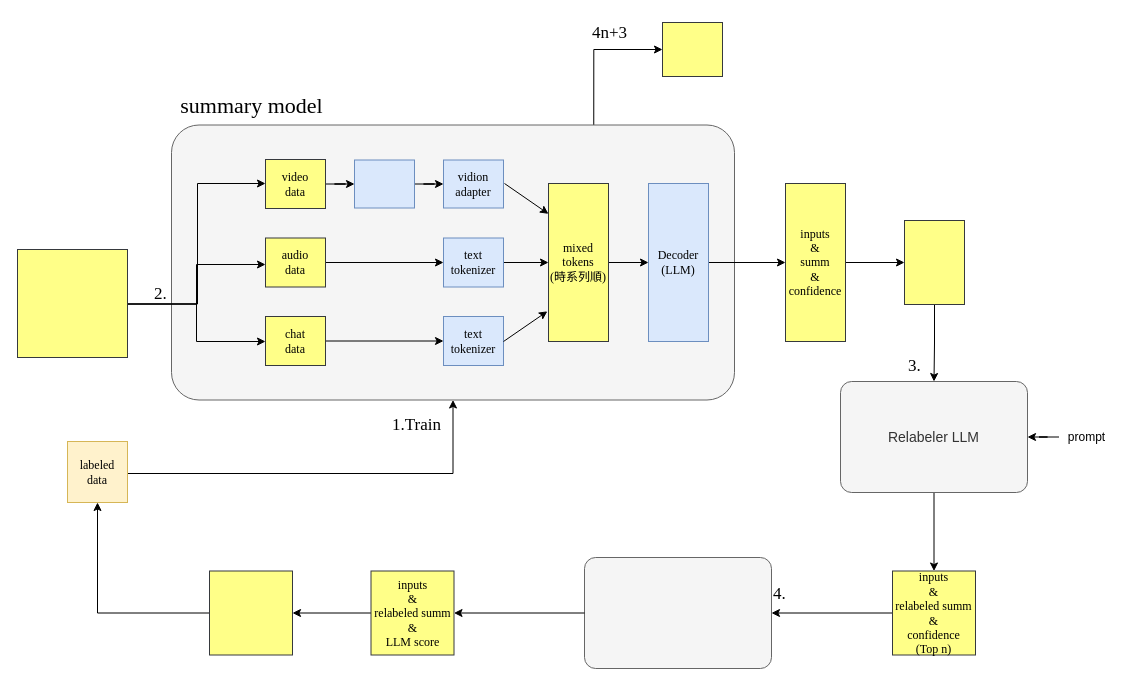
This 1131x686 diagram has some shape labels left out. Each missing label, with the centre of its shape:
"inputs & relabeled summ & LLM score (Top 5)" belongs at point (250, 612).
"inputs & summ & confidence (Top n)" belongs at point (934, 262).
"output" belongs at point (692, 49).
"Pool of unlabeled data" belongs at point (72, 303).
"Scorer LLM" belongs at point (678, 612).
"vidion encoder (LLM)" belongs at point (384, 183).
